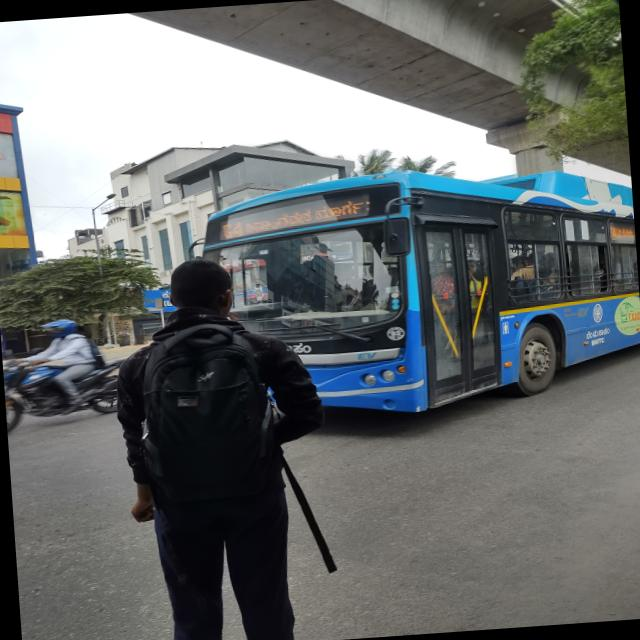bus: (198, 128, 640, 441)
display: (218, 194, 380, 236), (608, 222, 634, 241)
dnumber: (222, 222, 242, 238), (608, 226, 616, 238)
